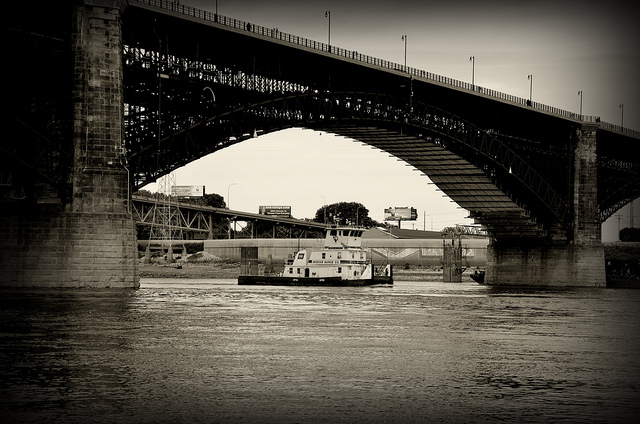tug_boat: (237, 209, 401, 293)
